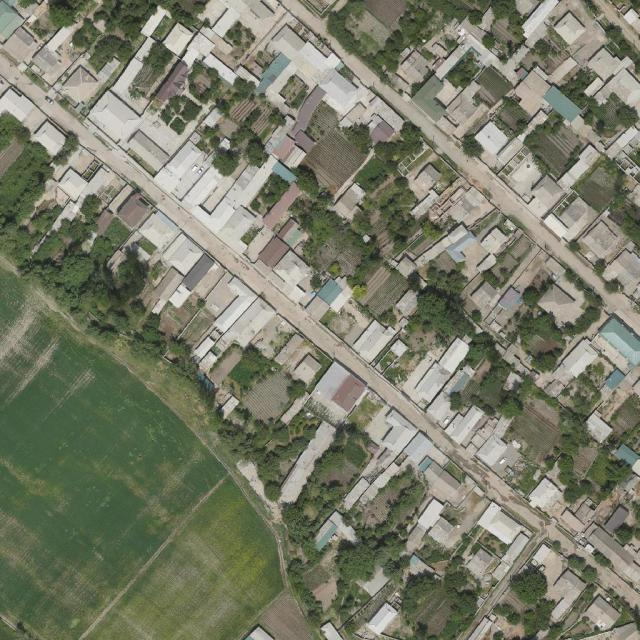agricultural_land: (0, 269, 283, 640), (281, 99, 375, 198), (518, 111, 590, 183), (542, 0, 612, 67), (352, 260, 413, 321), (508, 403, 564, 457), (409, 585, 463, 640), (508, 404, 564, 457), (564, 19, 611, 69), (226, 92, 260, 127)
building: (306, 63, 408, 156), (398, 426, 467, 505), (264, 22, 340, 89), (338, 453, 402, 518), (412, 334, 471, 404), (223, 148, 282, 213), (85, 89, 144, 147), (200, 276, 258, 335), (221, 297, 278, 354), (110, 37, 160, 98), (152, 140, 206, 196), (200, 155, 250, 214), (253, 49, 302, 107), (536, 278, 589, 331), (452, 14, 502, 69), (401, 497, 447, 556), (215, 204, 266, 256), (313, 68, 364, 118), (410, 74, 460, 124), (121, 128, 171, 177), (585, 39, 635, 88), (594, 63, 640, 116), (476, 501, 526, 549), (287, 83, 328, 140), (597, 314, 640, 368), (191, 188, 239, 236), (554, 143, 601, 191), (180, 165, 225, 215), (520, 174, 567, 221), (447, 186, 494, 233), (551, 196, 598, 243), (137, 111, 185, 157), (154, 59, 197, 109), (261, 182, 305, 230), (143, 266, 185, 316), (600, 244, 640, 296), (58, 64, 103, 110), (160, 231, 205, 277), (300, 101, 345, 147), (309, 508, 358, 550), (137, 208, 181, 252), (444, 401, 487, 446), (590, 525, 637, 566), (28, 43, 71, 87), (250, 51, 292, 96), (580, 219, 623, 262), (271, 250, 314, 292), (206, 346, 248, 388), (1, 25, 42, 66), (164, 140, 204, 181), (114, 191, 154, 231), (524, 476, 564, 516), (394, 49, 434, 89), (582, 594, 622, 634), (433, 39, 472, 80), (542, 85, 584, 123), (178, 31, 216, 71), (489, 242, 526, 283), (31, 120, 70, 158), (472, 120, 511, 158), (330, 373, 367, 413), (0, 86, 36, 127), (79, 165, 115, 206), (550, 568, 588, 606), (180, 254, 216, 293), (242, 224, 276, 264), (407, 163, 443, 200), (604, 124, 640, 161), (474, 434, 510, 470), (552, 11, 588, 47), (437, 336, 471, 374), (446, 231, 482, 266), (552, 11, 588, 46), (365, 602, 400, 638), (161, 22, 195, 57), (257, 235, 291, 270), (207, 385, 241, 419), (43, 21, 77, 54), (291, 353, 324, 387), (56, 169, 89, 202), (210, 6, 241, 39), (403, 555, 436, 585), (546, 56, 578, 86), (197, 0, 230, 28), (427, 516, 457, 546), (106, 182, 134, 214), (479, 227, 509, 256), (572, 496, 601, 525), (316, 277, 344, 306), (379, 419, 409, 446), (542, 212, 570, 240), (507, 234, 535, 262), (440, 223, 468, 248), (468, 616, 494, 640), (603, 367, 627, 392), (621, 6, 640, 34), (383, 409, 404, 429), (172, 293, 185, 306)
dryland: (432, 79, 497, 144), (497, 145, 551, 199), (509, 69, 557, 117), (343, 244, 389, 292)
greenland: (17, 191, 173, 347), (270, 415, 380, 558), (201, 379, 322, 502), (353, 172, 437, 258), (407, 279, 485, 348), (244, 423, 310, 503), (509, 302, 576, 377), (288, 187, 351, 261), (371, 118, 432, 174), (337, 3, 396, 60), (440, 557, 480, 640), (310, 230, 367, 287), (388, 563, 442, 619), (319, 7, 373, 61), (127, 40, 176, 99), (178, 56, 228, 109), (565, 286, 610, 344), (93, 0, 156, 41), (82, 28, 137, 73), (596, 20, 640, 76), (575, 164, 624, 214), (505, 560, 554, 609), (466, 62, 514, 110), (214, 73, 261, 122), (246, 171, 291, 220), (157, 90, 203, 137), (372, 26, 415, 74), (607, 195, 640, 250), (557, 406, 592, 456), (460, 330, 502, 370), (353, 155, 393, 196), (287, 161, 328, 200), (336, 542, 376, 581), (67, 16, 104, 55), (136, 314, 166, 357), (475, 374, 510, 410), (49, 0, 91, 28), (239, 135, 271, 171), (341, 121, 372, 157), (529, 596, 557, 635), (210, 146, 241, 179), (347, 208, 378, 239), (456, 133, 487, 163), (529, 36, 559, 65), (490, 0, 517, 21), (565, 552, 589, 573), (465, 7, 487, 29), (480, 31, 500, 51), (548, 622, 564, 639)
unmetalled_road: (85, 127, 434, 433), (389, 86, 612, 305), (416, 417, 581, 560), (0, 56, 109, 158), (324, 37, 419, 124), (326, 33, 383, 93), (278, 0, 332, 39), (280, 0, 325, 35), (419, 417, 458, 457)
